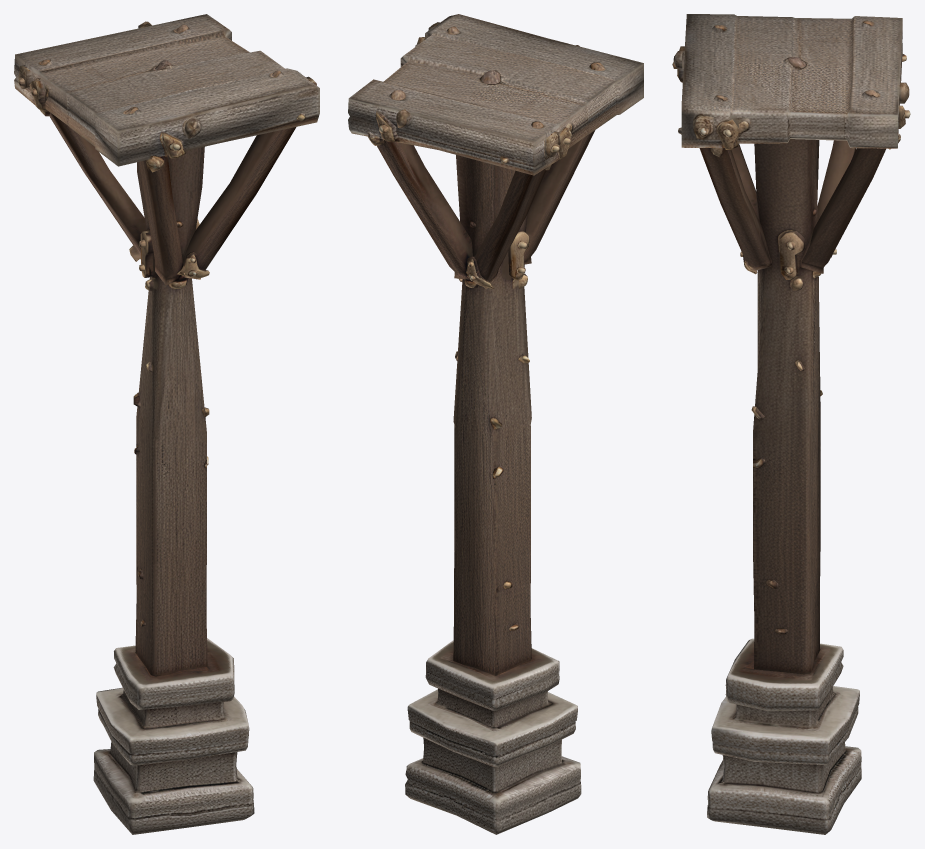
File: pilastro_legno.fbx
3 renders of one model, left to right at view 1: azimuth 30°, elevation 25°; view 2: azimuth 150°, elevation 25°; view 3: azimuth 270°, elevation 25°, orthographic.
Parts seen in each view (by area): view 1: tripo_node_c7097801; view 2: tripo_node_c7097801; view 3: tripo_node_c7097801.
Part boxes in pixels (x1,y1,x2,y2): tripo_node_c7097801: [14, 14, 319, 834]; tripo_node_c7097801: [348, 14, 643, 834]; tripo_node_c7097801: [672, 14, 910, 834].
Size of the model in its own units: 0.3052 by 0.9995 by 0.2896.
1 material, 1 textured.
